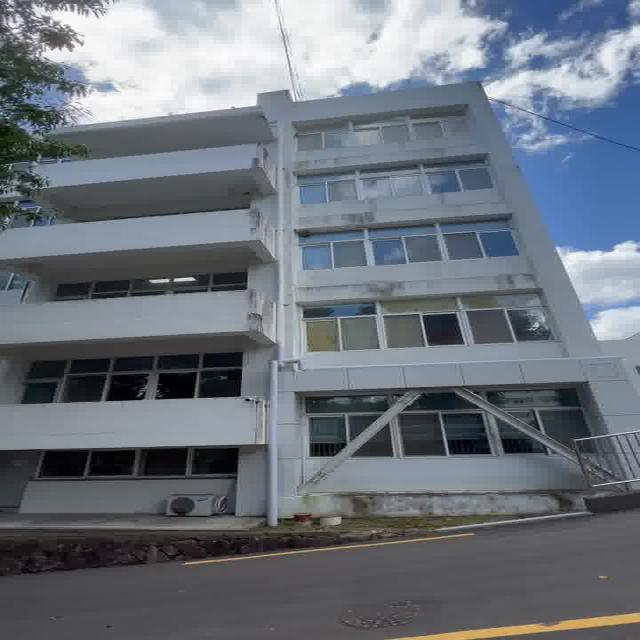building: (80, 79, 615, 513)
